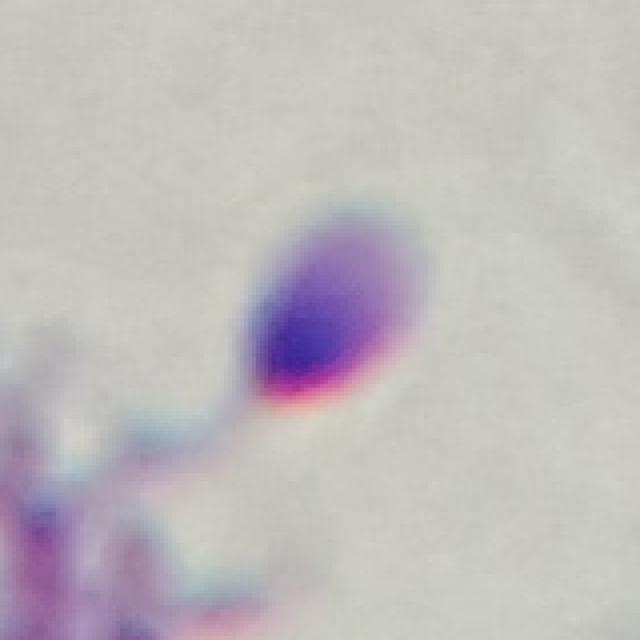normal sperm: (180, 204, 435, 514)
